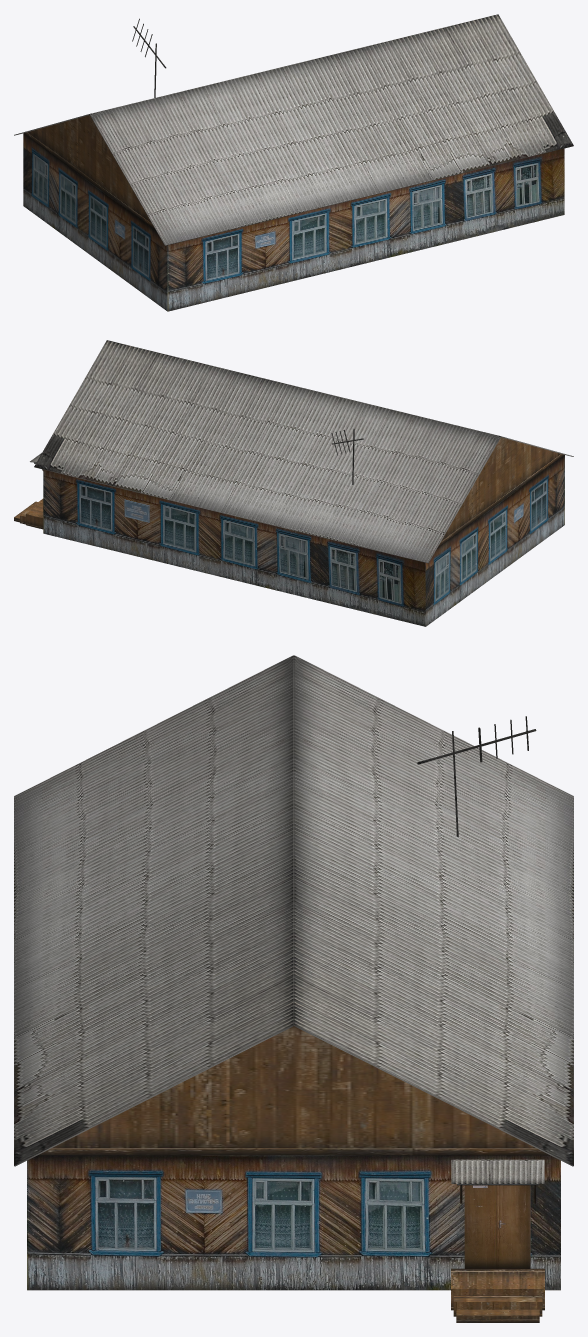
File: ru_village_hut_1.obj
The picture shows the model from 3 angles, top to bottom: view 1: azimuth 30°, elevation 25°; view 2: azimuth 150°, elevation 25°; view 3: azimuth 270°, elevation 25°; orthographic projection. The views are drawn at different scales.
Visible parts, largest first — view 1: ru_village_hut_1; view 2: ru_village_hut_1; view 3: ru_village_hut_1.
Part boxes in pixels (<box>): ru_village_hut_1: <box>14,14,573,311</box>; ru_village_hut_1: <box>14,340,573,626</box>; ru_village_hut_1: <box>14,655,573,1322</box>.
Size of the model in its own units: 14.13 by 5.18 by 8.43.
1 material, 1 textured.
